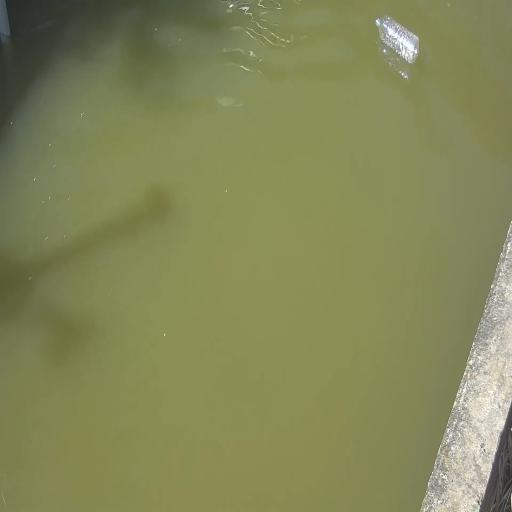plastic: (374, 12, 421, 68)
